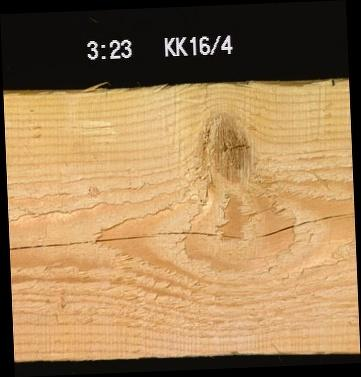sound_knot: (199, 110, 253, 185)
split: (8, 217, 355, 247), (237, 201, 288, 217)
wave: (3, 85, 190, 109), (246, 79, 348, 95)
